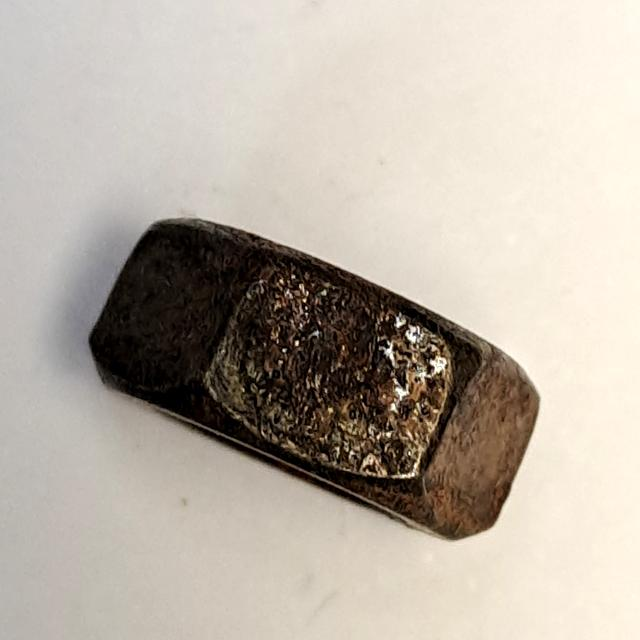Side_Rust: (64, 188, 570, 556)
